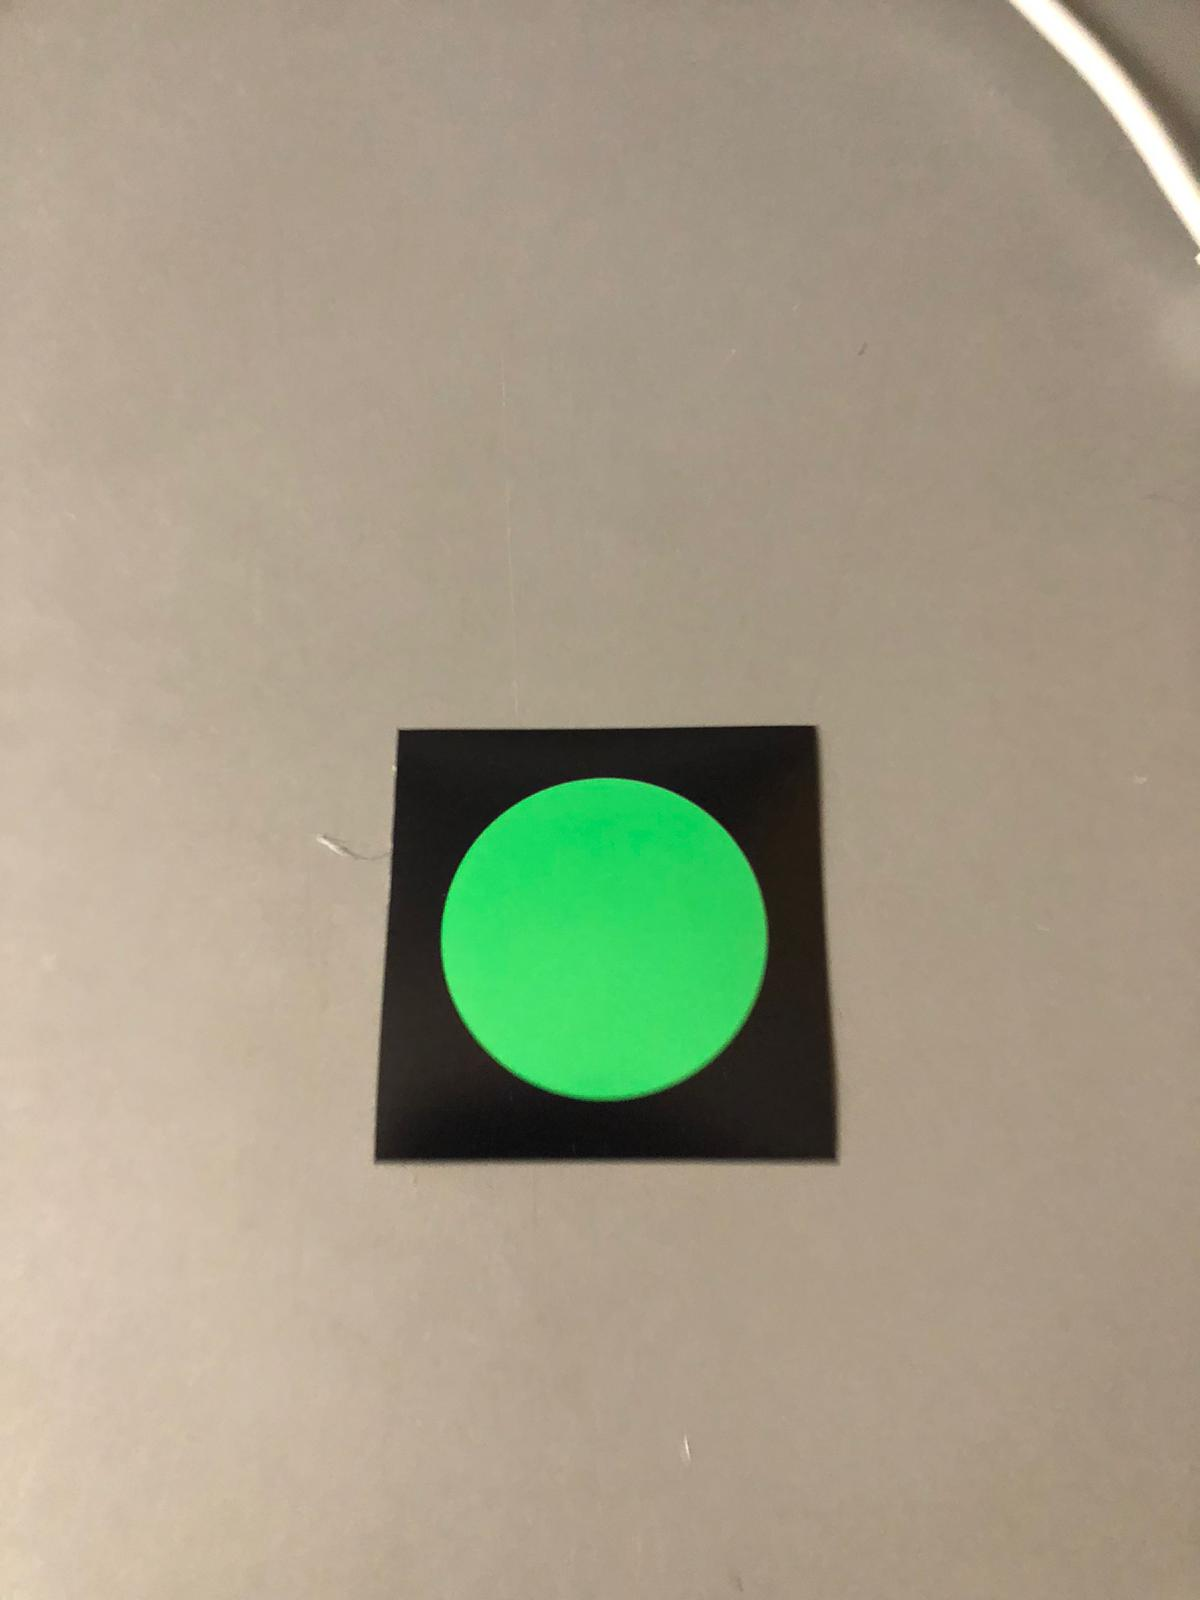Circle: (400, 743, 817, 1143)
